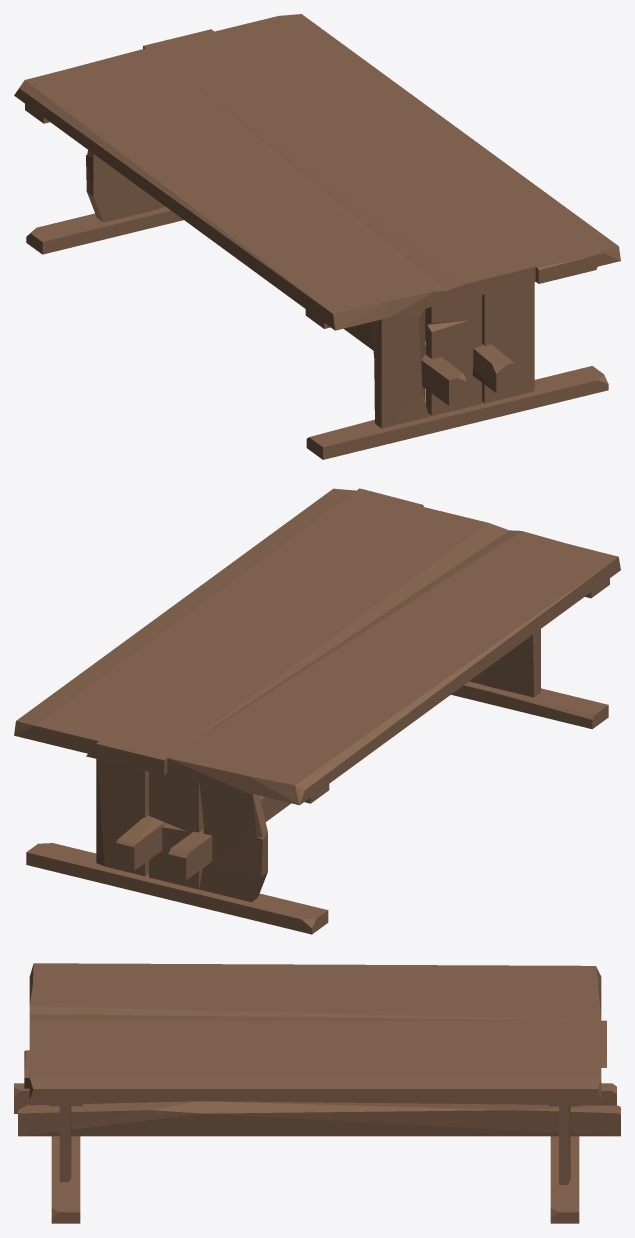
Rendered from crafttable.fbx.
The picture shows the model from 3 angles, top to bottom: view 1: azimuth 30°, elevation 25°; view 2: azimuth 150°, elevation 25°; view 3: azimuth 270°, elevation 25°; orthographic projection. The views are drawn at different scales.
Parts seen in each view (by area): view 1: EA03_Prop_Tabble_01a_LOD0; view 2: EA03_Prop_Tabble_01a_LOD0; view 3: EA03_Prop_Tabble_01a_LOD0.
Boxes of the visible parts, <box> form: EA03_Prop_Tabble_01a_LOD0: <box>14,14,620,459</box>; EA03_Prop_Tabble_01a_LOD0: <box>14,488,620,934</box>; EA03_Prop_Tabble_01a_LOD0: <box>14,963,620,1223</box>.
Bounding box in the file's own units: 193 × 99.38 × 399.
